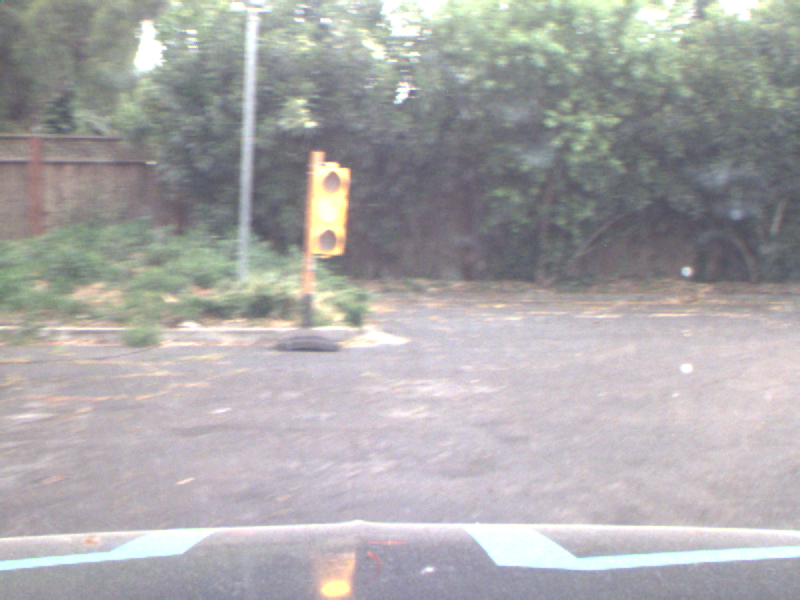Yellow: (308, 165, 347, 257)
